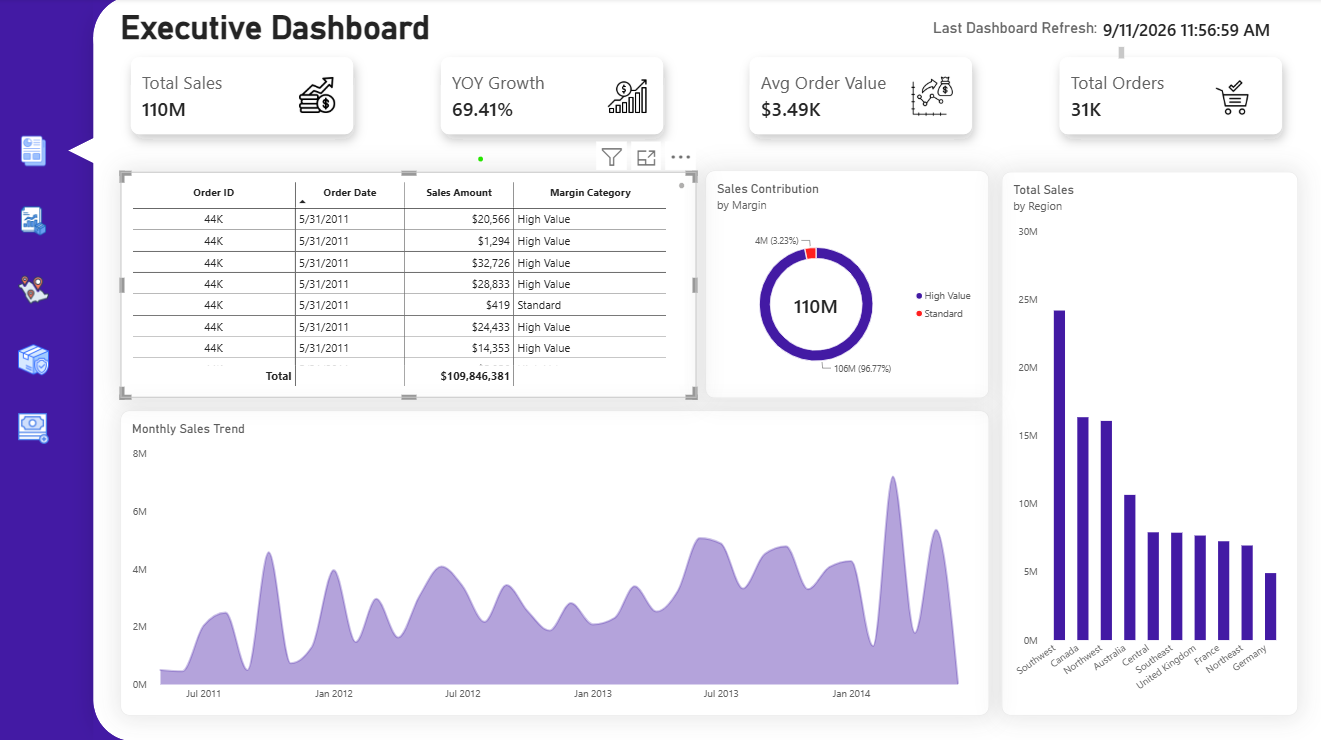

This screenshot's page, from the dashboard's own definition file:
{"tool":"powerbi","page":{"name":"Executive Dashboard","canvas":[1920,1080],"ordinal":0},"visuals":[{"type":"cardVisual","fields":{"Data":["DAX_Measures.Total Orders"]},"box":[1512.9,61.6,370,160],"z":0},{"type":"cardVisual","fields":{"Data":["DAX_Measures.Total Sales"]},"box":[169,61.4,370,160.3],"z":1000},{"type":"cardVisual","fields":{"Data":["DAX_Measures.Year-over-Year Growth"]},"box":[617,61.6,370,160],"z":2000},{"type":"tableEx","title":"Transaction History ","fields":{"Values":["Orders.OrderID","Orders.OrderDate","Sum(Orders.SubTotal)","Orders.Profitability Category"]},"box":[177.3,251.5,834.3,327.5],"z":3000},{"type":"areaChart","title":"Monthly Sales Trend","fields":{"Category":["Orders.OrderMonthDate"],"Y":["DAX_Measures.Total Sales"]},"box":[177.3,597.2,1257.7,441.6],"z":4000},{"type":"donutChart","title":"Sales Contribution ","fields":{"Category":["Orders.Profitability Category"],"Y":["DAX_Measures.Total Sales"]},"box":[1024.3,249.7,410.8,329.4],"z":5000},{"type":"clusteredColumnChart","title":"Total Sales ","fields":{"Category":["Territories.Territory"],"Y":["DAX_Measures.Total Sales"]},"box":[1453.2,251.5,428.9,787.2],"z":6000},{"type":"cardVisual","fields":{"Data":["DAX_Measures.AOV"]},"box":[1064.9,61.6,370,160],"z":7000},{"type":"image","box":[29,199.1,45,45],"z":8000},{"type":"image","box":[29,299.5,45,45],"z":9000},{"type":"image","box":[29,399.9,45,45],"z":10000},{"type":"image","box":[29,500.4,45,45],"z":11000},{"type":"image","box":[29,600.8,45,45],"z":12000},{"type":"textbox","title":"Executive Dashboard","box":[177.3,14.5,693.1,45.2],"z":13000},{"type":"textbox","title":"Last Dashboard Refresh:","box":[1353.6,30.8,276.9,57.9],"z":14000},{"type":"textbox","box":[0,646,177,393],"z":15000},{"type":"cardVisual","fields":{"Data":["DAX_Measures.System Time"]},"box":[1583.5,30.8,323.9,30.8],"z":16000},{"type":"shape","box":[101.3,200.9,40,40],"z":16001},{"type":"image","box":[421.7,110.4,80,60],"z":16002},{"type":"image","box":[870.4,112.2,80,60],"z":16003},{"type":"image","box":[1312,112.2,80,60],"z":16004},{"type":"image","box":[1746.3,114,80,60],"z":16005}]}

Visuals, with their boxes on the page's 1920x1080 design canvas (x1, y1, x2, y2). These are canvas units, not pixel positions in the 1321x740 screenshot, which may show the page scaled, cropped or inside an application window:
cardVisual - DAX_Measures.Total Orders: (1513, 62, 1883, 222)
cardVisual - DAX_Measures.Total Sales: (169, 61, 539, 222)
cardVisual - DAX_Measures.Year-over-Year Growth: (617, 62, 987, 222)
"Transaction History " tableEx: (177, 252, 1012, 579)
"Monthly Sales Trend" areaChart: (177, 597, 1435, 1039)
"Sales Contribution " donutChart: (1024, 250, 1435, 579)
"Total Sales " clusteredColumnChart: (1453, 252, 1882, 1039)
cardVisual - DAX_Measures.AOV: (1065, 62, 1435, 222)
image: (29, 199, 74, 244)
image: (29, 300, 74, 344)
image: (29, 400, 74, 445)
image: (29, 500, 74, 545)
image: (29, 601, 74, 646)
"Executive Dashboard" textbox: (177, 14, 870, 60)
"Last Dashboard Refresh:" textbox: (1354, 31, 1630, 89)
textbox: (0, 646, 177, 1039)
cardVisual - DAX_Measures.System Time: (1584, 31, 1907, 62)
shape: (101, 201, 141, 241)
image: (422, 110, 502, 170)
image: (870, 112, 950, 172)
image: (1312, 112, 1392, 172)
image: (1746, 114, 1826, 174)
